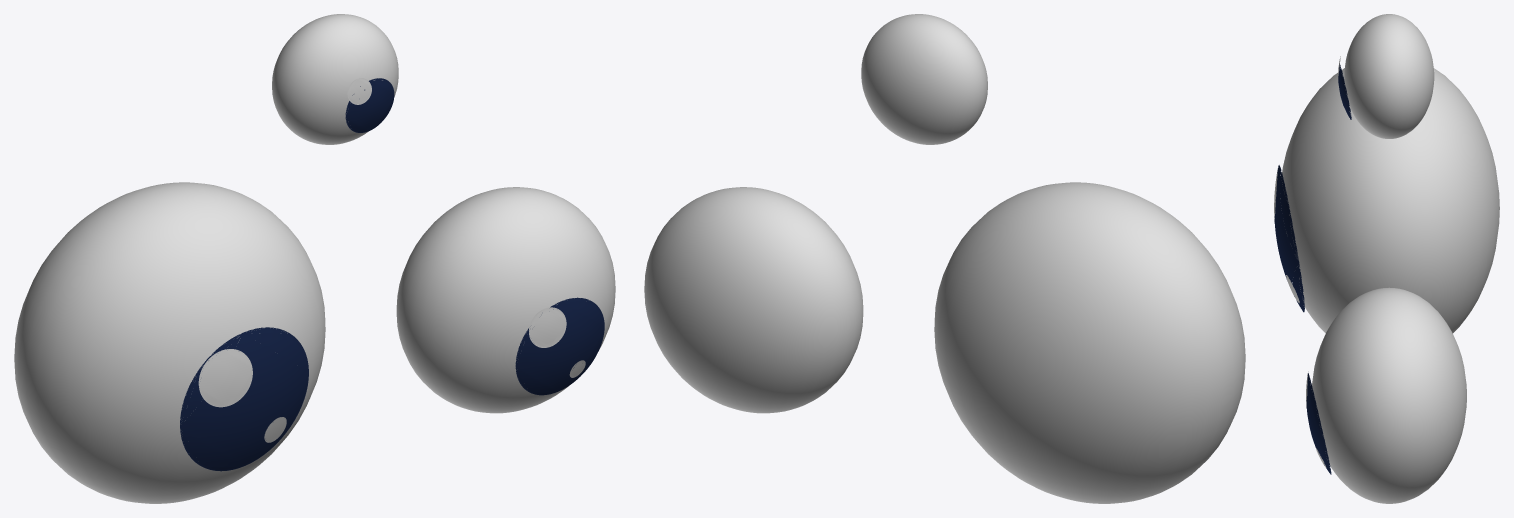
File: multiple.glb
The picture shows the model from 3 angles, left to right: view 1: azimuth 30°, elevation 25°; view 2: azimuth 150°, elevation 25°; view 3: azimuth 270°, elevation 25°; orthographic projection. The views are drawn at different scales.
Visible parts, largest first — view 1: multiple_25_solid, multiple_29_solid, multiple_33_solid, multiple_26_mark, multiple_30_mark, multiple_27_mark, multiple_34_mark, multiple_31_mark; view 2: multiple_25_solid, multiple_29_solid, multiple_33_solid; view 3: multiple_25_solid, multiple_29_solid, multiple_33_solid, multiple_26_mark, multiple_30_mark, multiple_34_mark.
Part boxes in pixels (left/top/right/bottom): multiple_25_solid: left=14, top=182, right=325, bottom=503; multiple_29_solid: left=396, top=187, right=615, bottom=413; multiple_33_solid: left=272, top=14, right=398, bottom=144; multiple_26_mark: left=180, top=327, right=308, bottom=471; multiple_30_mark: left=515, top=297, right=604, bottom=395; multiple_27_mark: left=198, top=349, right=252, bottom=407; multiple_34_mark: left=345, top=78, right=394, bottom=132; multiple_31_mark: left=529, top=307, right=566, bottom=347; multiple_25_solid: left=934, top=182, right=1245, bottom=503; multiple_29_solid: left=644, top=187, right=863, bottom=413; multiple_33_solid: left=861, top=14, right=987, bottom=144; multiple_25_solid: left=1280, top=68, right=1499, bottom=333; multiple_29_solid: left=1312, top=287, right=1466, bottom=503; multiple_33_solid: left=1344, top=14, right=1434, bottom=138; multiple_26_mark: left=1274, top=165, right=1304, bottom=312; multiple_30_mark: left=1306, top=373, right=1331, bottom=474; multiple_34_mark: left=1338, top=64, right=1351, bottom=119.
Bounding box in the file's own units: 0.436 × 0.312 × 0.1588.
